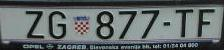-: (163, 21, 171, 26)
7: (117, 10, 138, 40), (141, 10, 160, 39)
8: (96, 11, 114, 39)
F: (198, 9, 216, 37)
G: (48, 10, 67, 39)
T: (176, 9, 194, 38)
Z: (24, 10, 45, 39)
